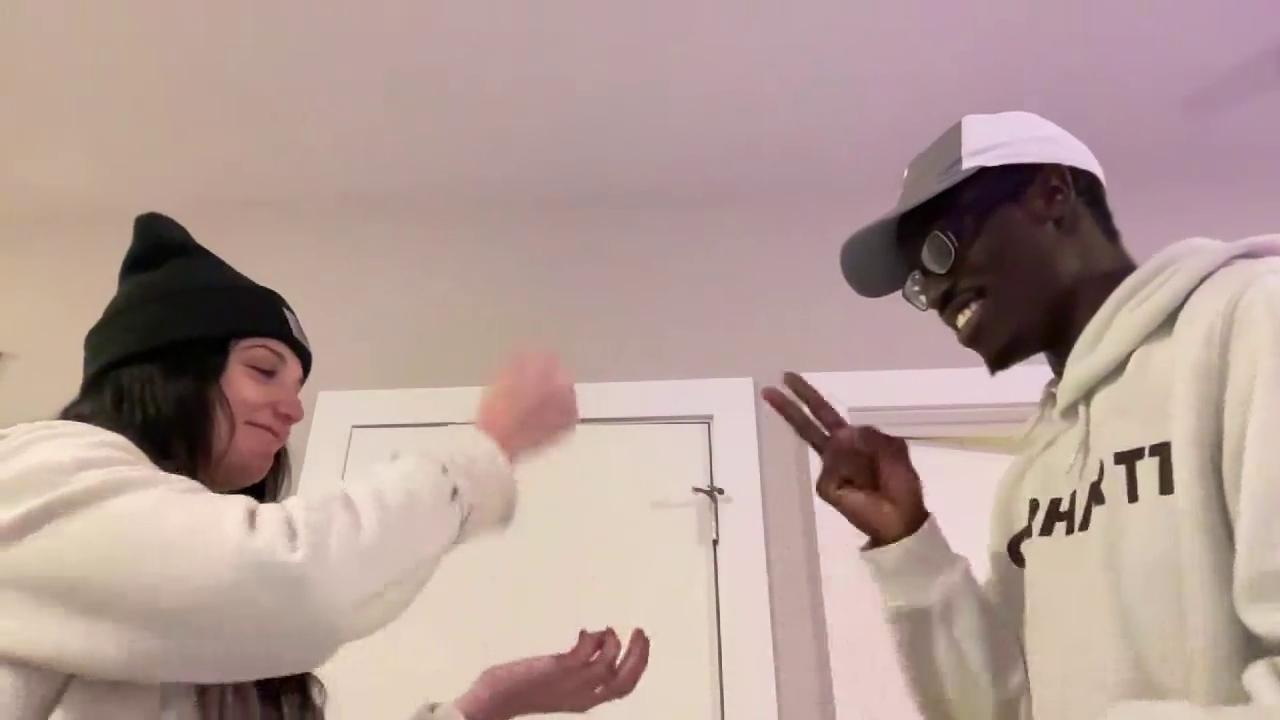Rock: (487, 347, 585, 459)
Scissors: (763, 367, 920, 537)
